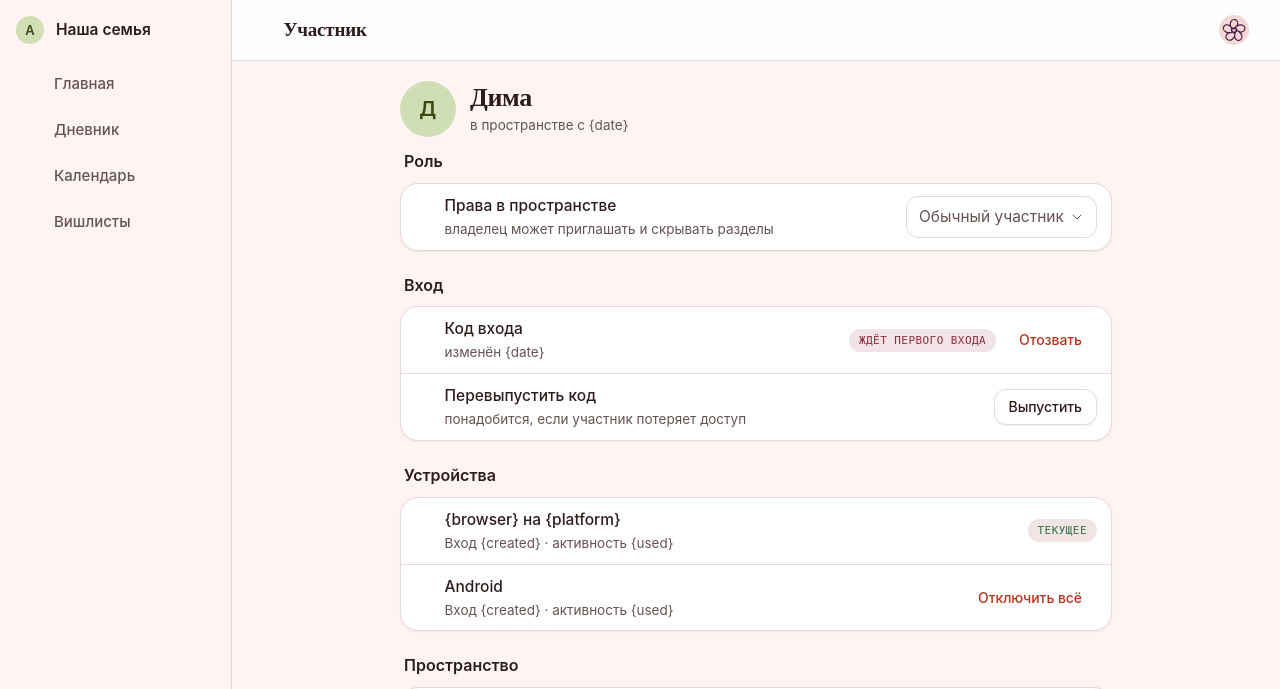
Test case: MemberCardScreen › issues a code and shows the plaintext once
Check: the text "Код входа" is shown, box [444,317,523,341]
// The reissue row's small secondary button opens the dialog.
Click the button "Выпустить": (1045, 407) [994,389,1097,425]
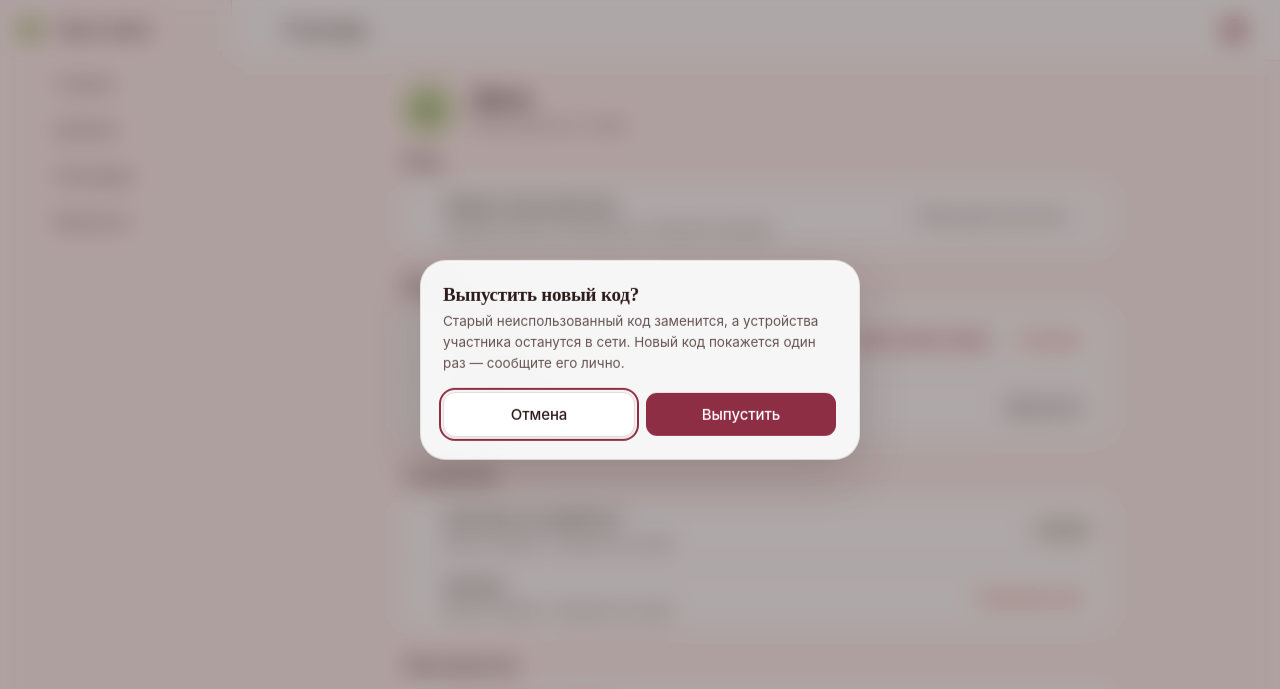
Click the button "Выпустить": (741, 415) [645,392,837,437]
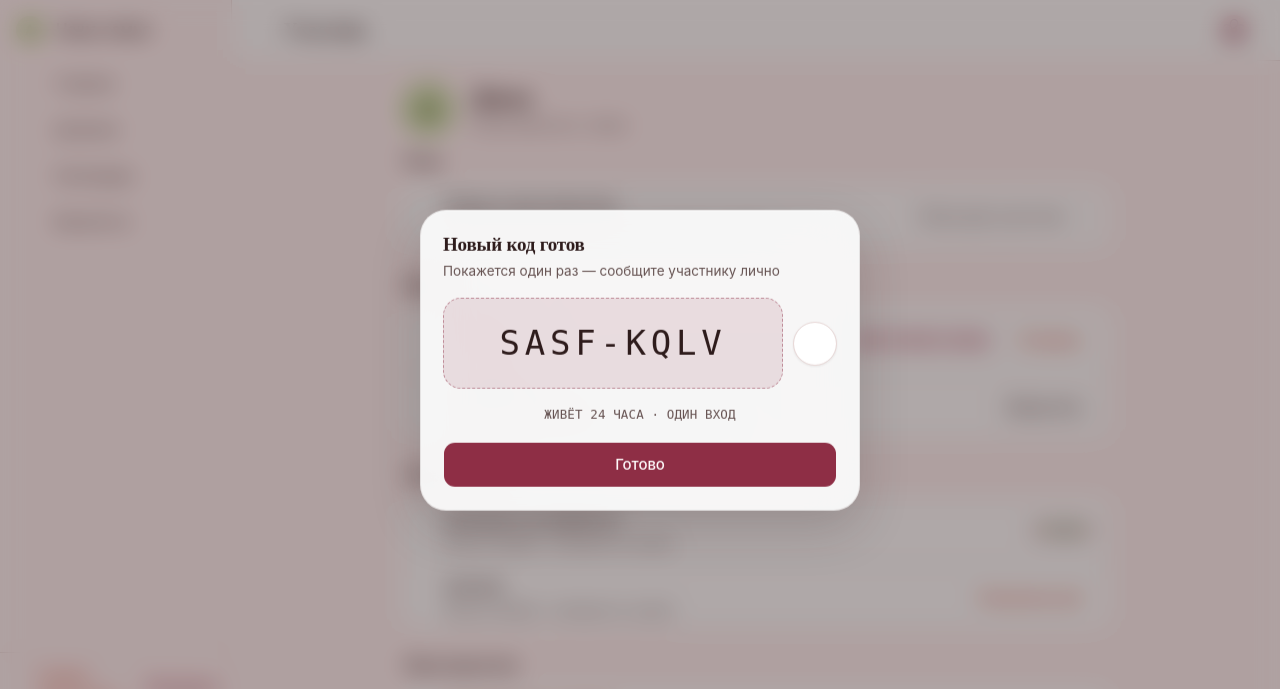
Check: the text "SASF-KQLV" is shown once, box [443,298,783,389]
